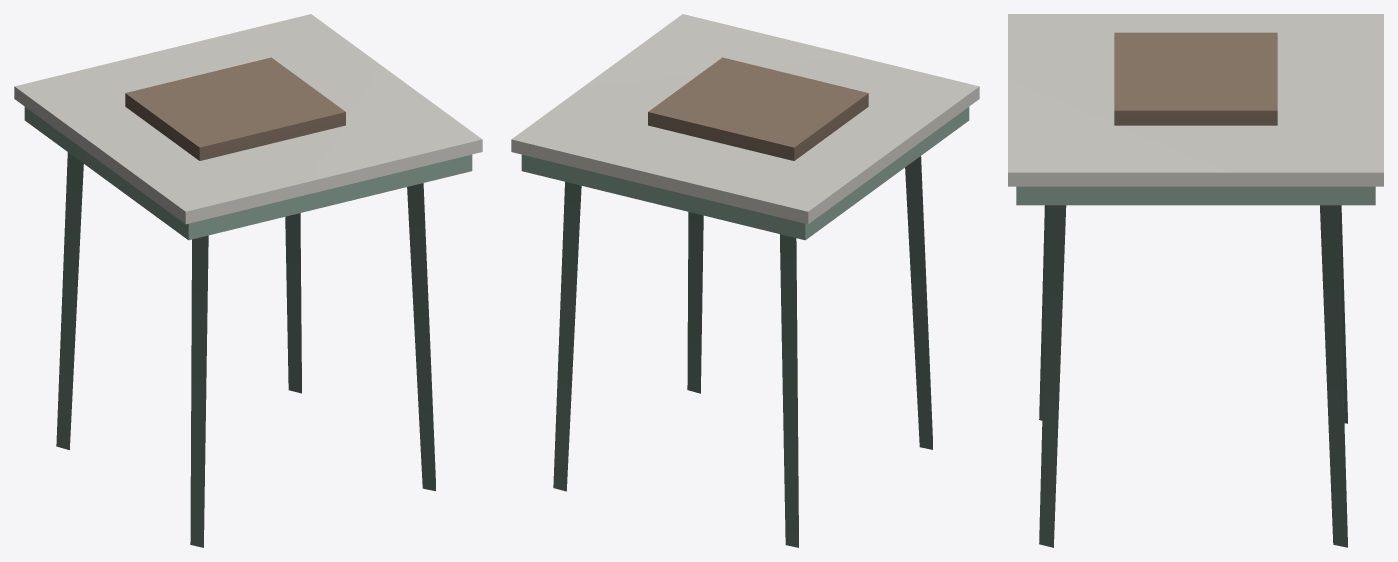
File: kafe.lod1.glb
3 views of the same model, side by side, from view 1: azimuth 30°, elevation 25°; view 2: azimuth 150°, elevation 25°; view 3: azimuth 270°, elevation 25° (orthographic). The views are drawn at different scales.
Bounding box in the file's own units: 0.69 × 0.8187 × 0.69.
